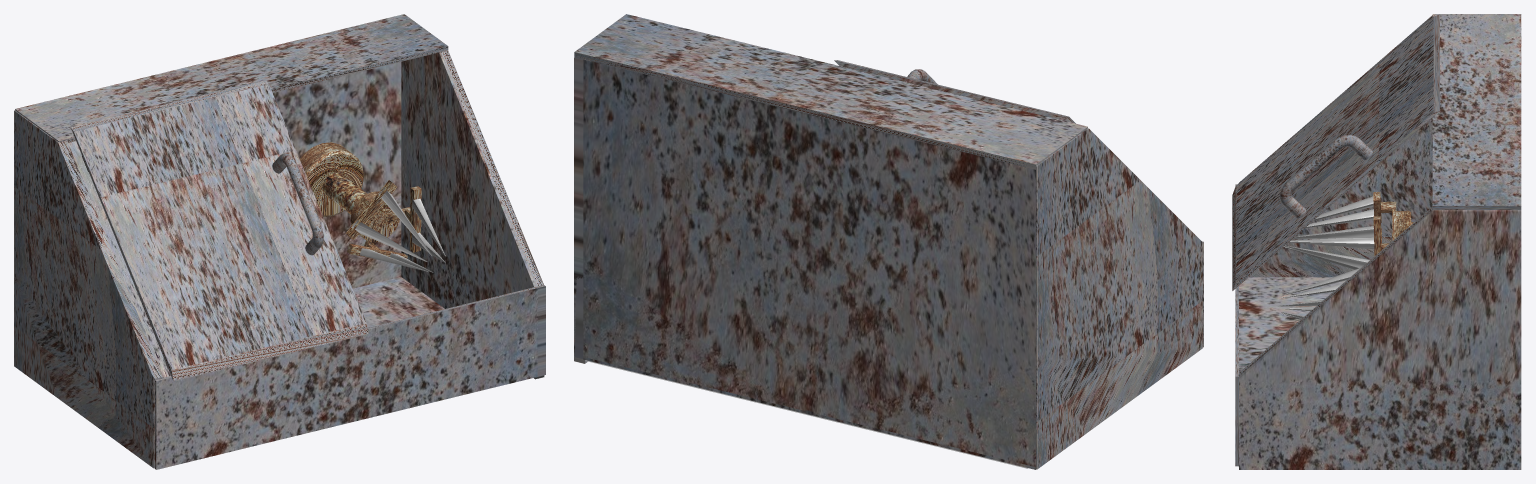
File: TrashBox.fbx
3 views of the same model, side by side, from view 1: azimuth 30°, elevation 25°; view 2: azimuth 150°, elevation 25°; view 3: azimuth 270°, elevation 25° (orthographic). The views are drawn at different scales.
Visible parts, largest first — view 1: pCube13, polySurface7, polySurface3, polySurface2, polySurface6, pCube31, polySurface9; view 2: polySurface5, polySurface3, polySurface7, polySurface2, pCube13, polySurface8; view 3: polySurface2, pCube13, polySurface7, polySurface3, polySurface9, pCube32, pCube31.
Part boxes in pixels (x1=…): pCube13: x1=70, y1=80, x2=368, y2=381; polySurface7: x1=15, y1=14, x2=545, y2=469; polySurface3: x1=14, y1=110, x2=163, y2=468; polySurface2: x1=401, y1=52, x2=544, y2=379; polySurface6: x1=273, y1=62, x2=401, y2=288; pCube31: x1=300, y1=142, x2=445, y2=272; polySurface9: x1=353, y1=277, x2=444, y2=327; polySurface5: x1=583, y1=59, x2=1035, y2=469; polySurface3: x1=1026, y1=128, x2=1202, y2=469; polySurface7: x1=574, y1=14, x2=1203, y2=358; polySurface2: x1=574, y1=58, x2=590, y2=363; pCube13: x1=834, y1=60, x2=1075, y2=123; polySurface8: x1=585, y1=360, x2=1027, y2=468; polySurface2: x1=1239, y1=210, x2=1521, y2=469; pCube13: x1=1232, y1=14, x2=1439, y2=290; polySurface7: x1=1235, y1=14, x2=1521, y2=466; polySurface3: x1=1239, y1=15, x2=1432, y2=277; polySurface9: x1=1239, y1=277, x2=1346, y2=372; pCube32: x1=1284, y1=192, x2=1414, y2=269; pCube31: x1=1281, y1=268, x2=1360, y2=319.
Size of the model in its own units: 12.48 by 8.18 by 7.92.
